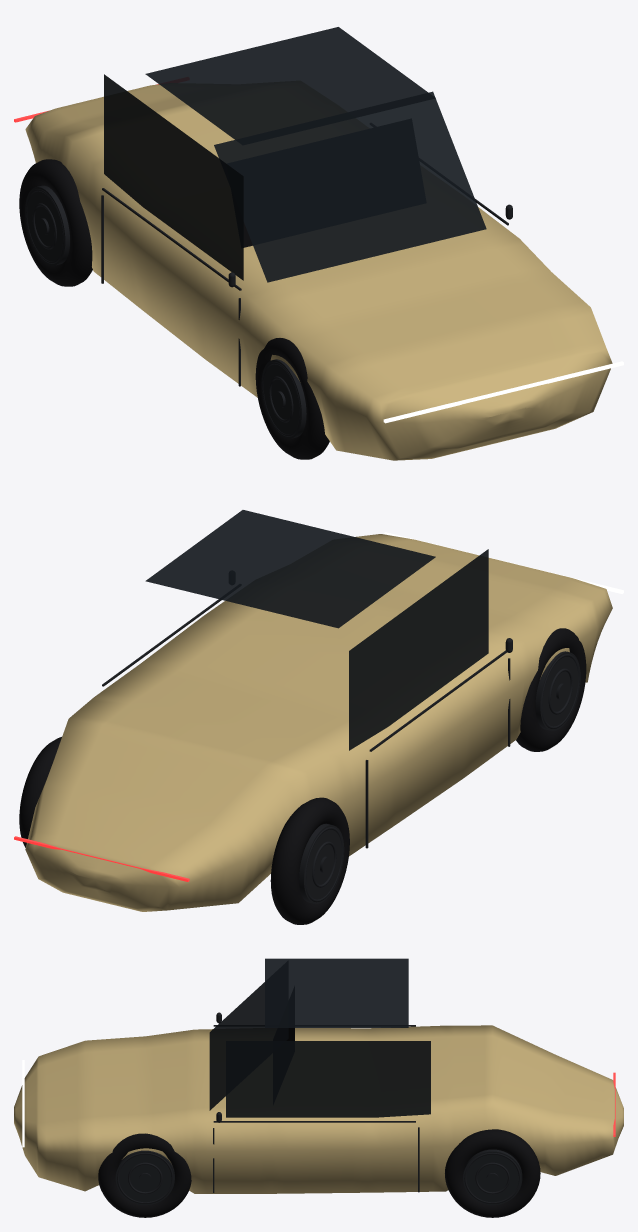
The model's file is cybercab.glb.
3 renders of one model, top to bottom at view 1: azimuth 30°, elevation 25°; view 2: azimuth 150°, elevation 25°; view 3: azimuth 270°, elevation 25°, orthographic. The views are drawn at different scales.
Parts seen in each view (by area): view 1: Body, Glass (×3), Cybercab, LightBar; view 2: Body, Glass (×2), Cybercab; view 3: Body, Glass (×3), Cybercab.
Boxes of the visible parts, <box> form: Body: <box>25,84,612,460</box>; Glass (×3): <box>104,27,486,282</box>; Cybercab: <box>19,159,508,459</box>; LightBar: <box>383,361,623,423</box>; Body: <box>25,534,612,911</box>; Glass (×2): <box>145,510,488,750</box>; Cybercab: <box>19,599,586,924</box>; Body: <box>14,1025,623,1193</box>; Glass (×3): <box>209,958,430,1117</box>; Cybercab: <box>98,1025,540,1217</box>.
Size of the model in its own units: 1.76 by 1.44 by 4.46.
